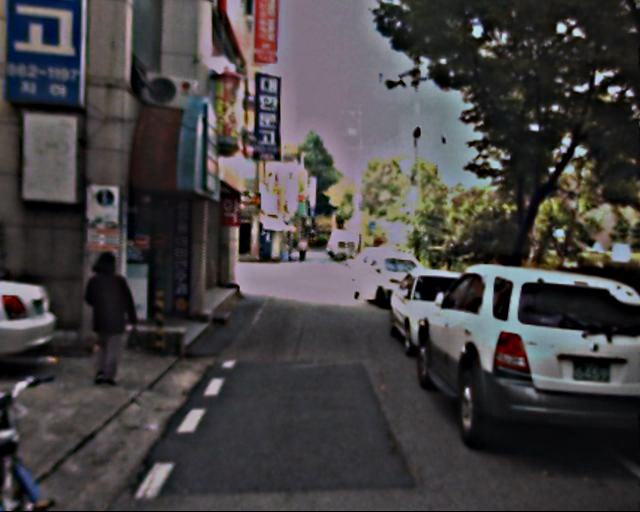person: (81, 245, 144, 388)
